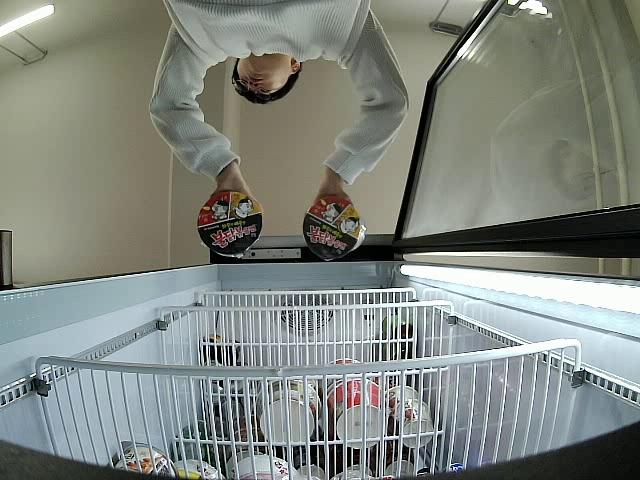00_hand: (211, 177, 251, 196), (314, 181, 350, 199)
07_buldak_L: (198, 192, 263, 256), (302, 196, 364, 261)
